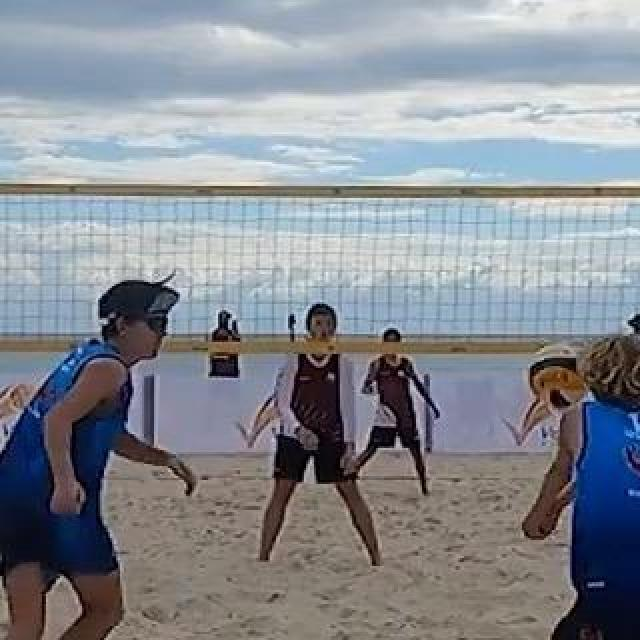volleyball: (528, 343, 590, 407)
